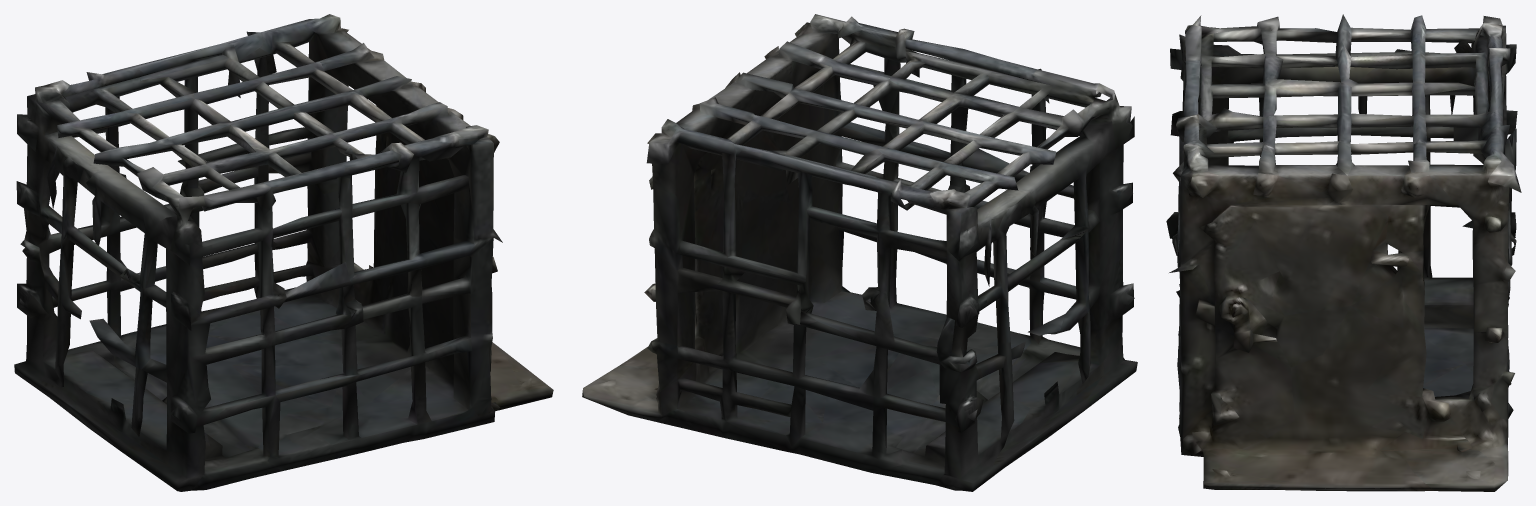
The model's file is xd_cage.glb.
3 views of the same model, side by side, from view 1: azimuth 30°, elevation 25°; view 2: azimuth 150°, elevation 25°; view 3: azimuth 270°, elevation 25° (orthographic).
Visible parts, largest first — view 1: tripo_node_1a46f714-cbec-4923-9b47-3b53dc954eef; view 2: tripo_node_1a46f714-cbec-4923-9b47-3b53dc954eef; view 3: tripo_node_1a46f714-cbec-4923-9b47-3b53dc954eef.
Part boxes in pixels (left/top/right/bottom): tripo_node_1a46f714-cbec-4923-9b47-3b53dc954eef: left=14, top=14, right=553, bottom=491; tripo_node_1a46f714-cbec-4923-9b47-3b53dc954eef: left=582, top=14, right=1137, bottom=491; tripo_node_1a46f714-cbec-4923-9b47-3b53dc954eef: left=1166, top=14, right=1521, bottom=491.
Bounding box in the file's own units: 1 × 0.7202 × 0.7762.
1 material, 1 textured.
